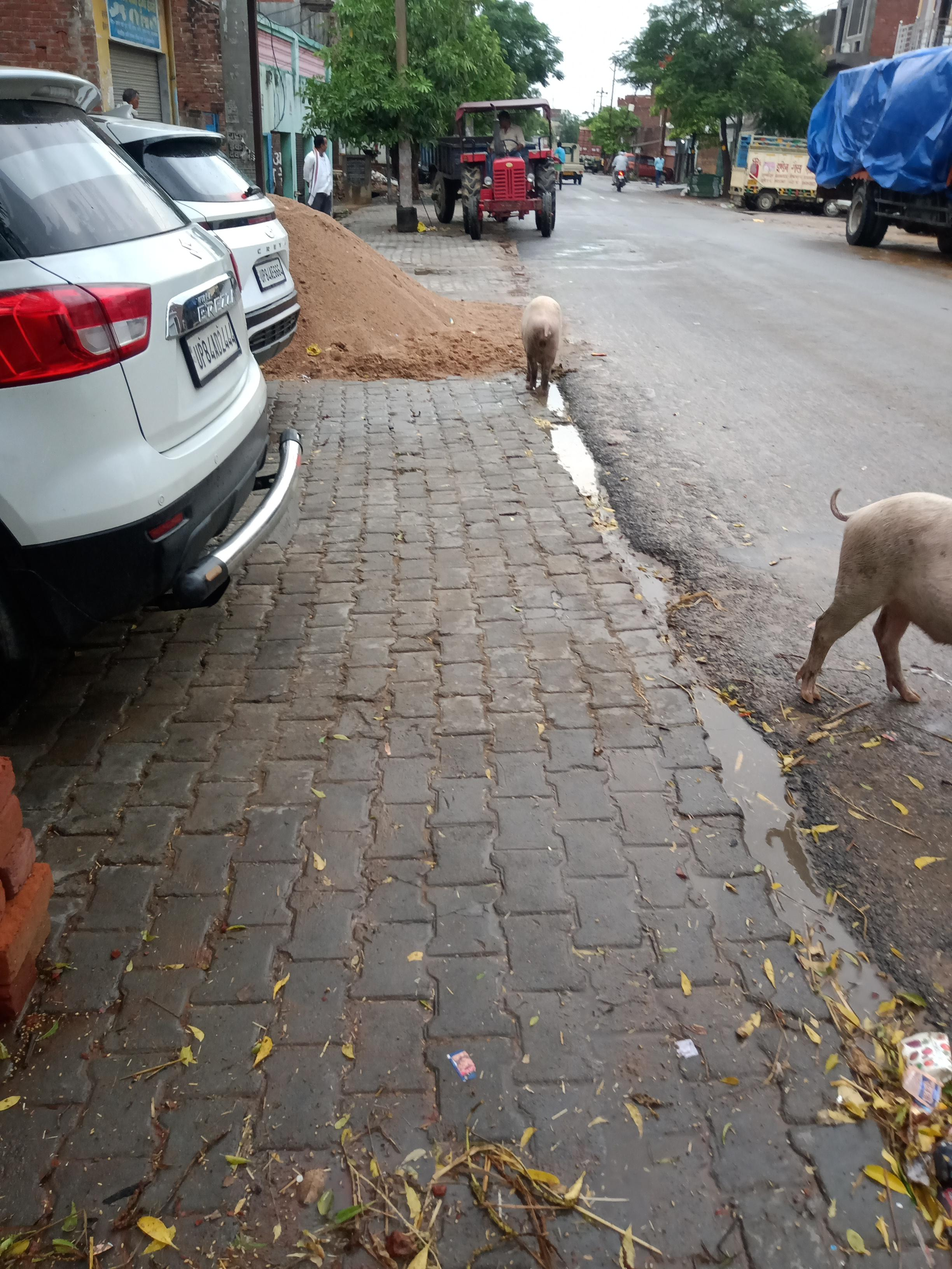Non-emergency: (355, 53, 651, 279)
